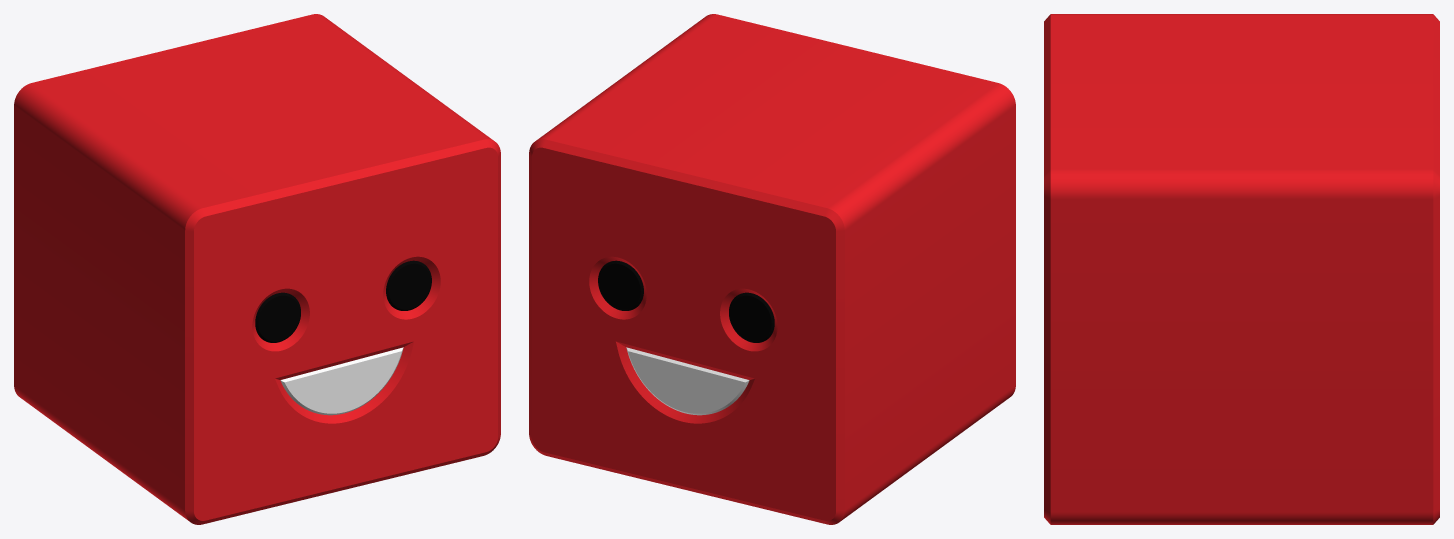
The model's file is chair.obj.
3 renders of one model, left to right at view 1: azimuth 30°, elevation 25°; view 2: azimuth 150°, elevation 25°; view 3: azimuth 270°, elevation 25°, orthographic. The views are drawn at different scales.
Parts seen in each view (by area): view 1: groupNumber_3, groupNumber_0, groupNumber_2, groupNumber_1; view 2: groupNumber_3, groupNumber_0, groupNumber_2, groupNumber_1; view 3: groupNumber_3.
Boxes of the visible parts, x1,y1,x2,y2 form: groupNumber_3: (14, 14, 500, 524); groupNumber_0: (280, 347, 403, 415); groupNumber_2: (255, 292, 300, 342); groupNumber_1: (386, 260, 431, 310); groupNumber_3: (529, 14, 1015, 524); groupNumber_0: (626, 347, 749, 415); groupNumber_2: (729, 292, 774, 342); groupNumber_1: (598, 260, 643, 310); groupNumber_3: (1044, 14, 1439, 524).
Size of the model in its own units: 18.81 by 18 by 18.27.
